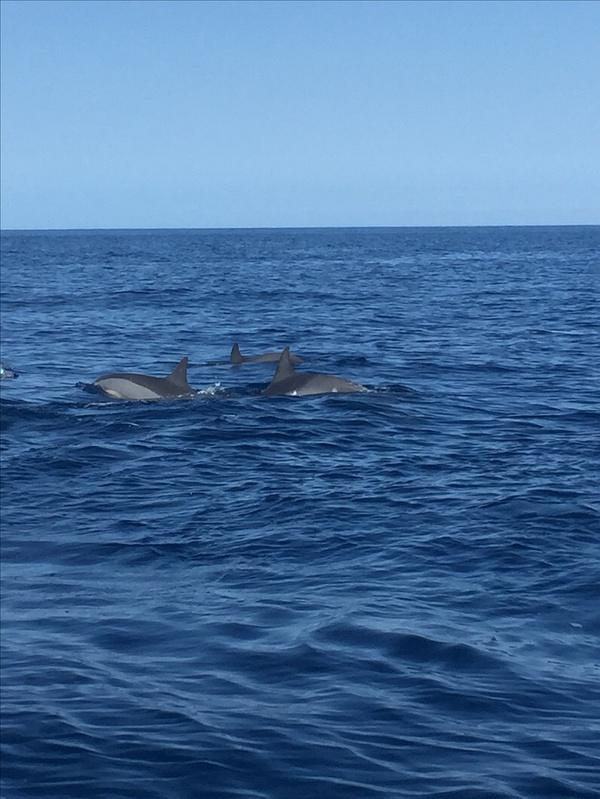fish: (75, 347, 211, 416), (257, 340, 376, 409)
